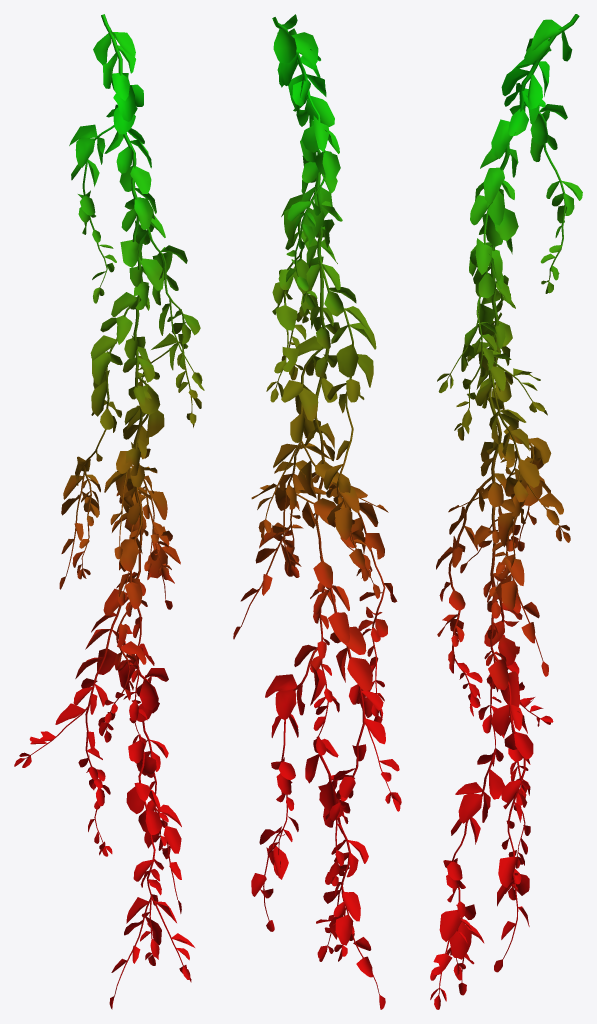
Rendered from Var7_LOD1.fbx.
The picture shows the model from 3 angles, left to right: view 1: azimuth 30°, elevation 25°; view 2: azimuth 150°, elevation 25°; view 3: azimuth 270°, elevation 25°; orthographic projection. The views are drawn at different scales.
Parts seen in each view (by area): view 1: _yci4_Var7_LOD1; view 2: _yci4_Var7_LOD1; view 3: _yci4_Var7_LOD1.
Boxes of the visible parts, x1,y1,x2,y2 form: _yci4_Var7_LOD1: (14,14,204,1009); _yci4_Var7_LOD1: (233,14,401,1009); _yci4_Var7_LOD1: (430,14,582,1009).
Bounding box in the file's own units: 40.92 × 237 × 32.71.
